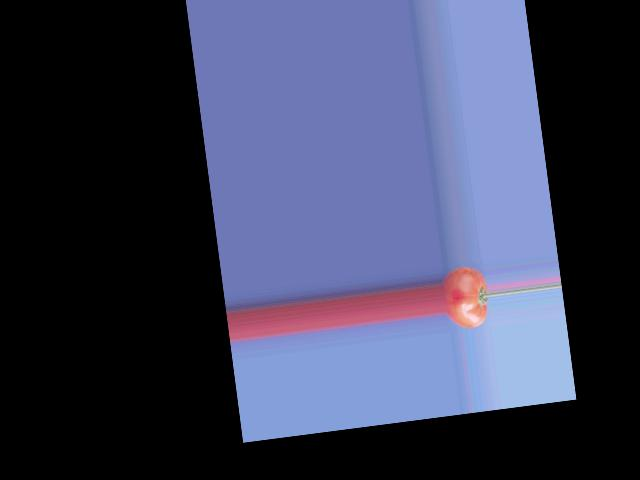tomato: (439, 263, 492, 330)
